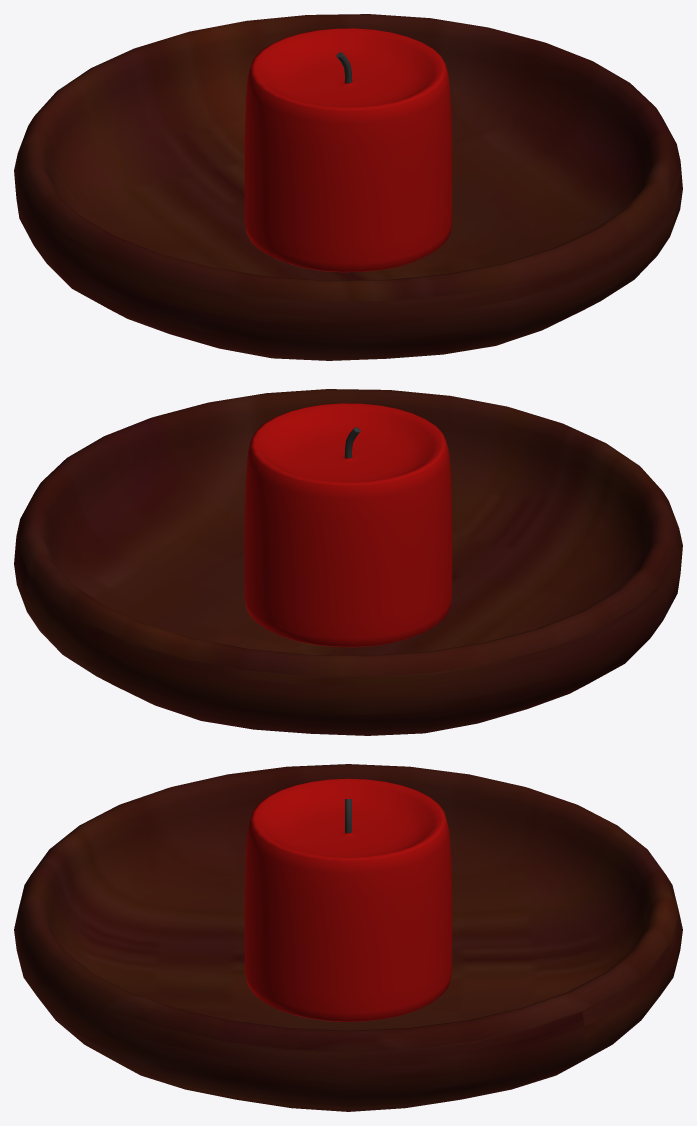
Rendered from Candlestick2.fbx.
The picture shows the model from 3 angles, top to bottom: view 1: azimuth 30°, elevation 25°; view 2: azimuth 150°, elevation 25°; view 3: azimuth 270°, elevation 25°; orthographic projection.
Parts seen in each view (by area): view 1: Candlestick2, Candle1; view 2: Candlestick2, Candle1; view 3: Candlestick2, Candle1.
Part boxes in pixels (x1,y1,x2,y2): Candlestick2: (14,14,682,360); Candle1: (244,28,452,272); Candlestick2: (14,389,682,735); Candle1: (244,403,452,647); Candlestick2: (14,764,682,1111); Candle1: (244,778,452,1021).
Bounding box in the file's own units: 0.1044 × 0.0353 × 0.1044.
3 materials, 1 textured.
